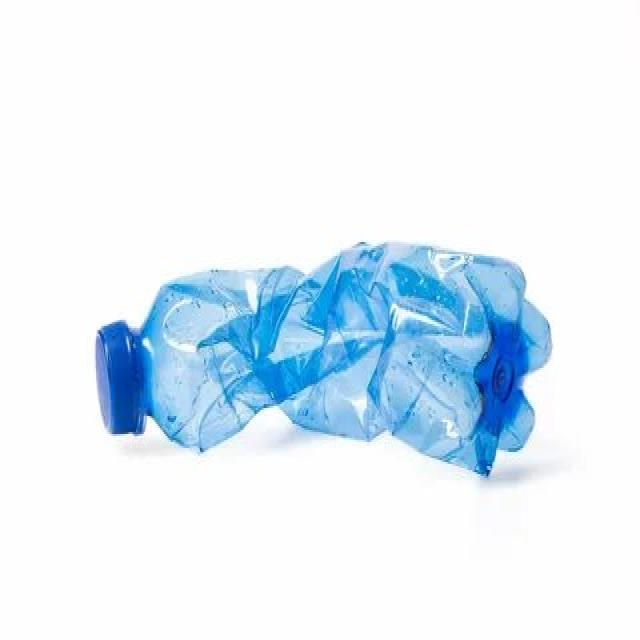blue: (136, 240, 554, 478)
